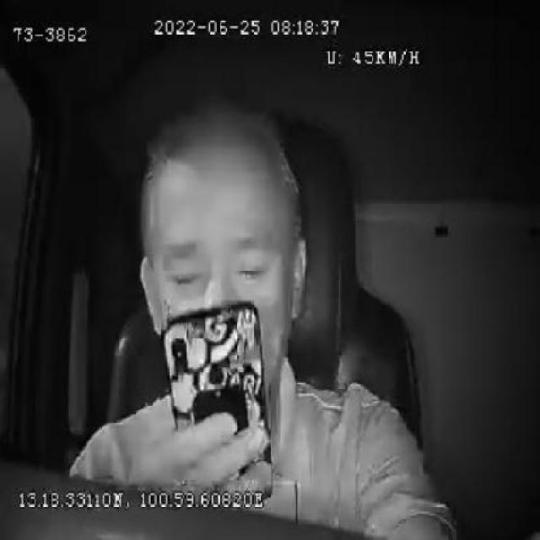phone: (160, 300, 272, 490)
